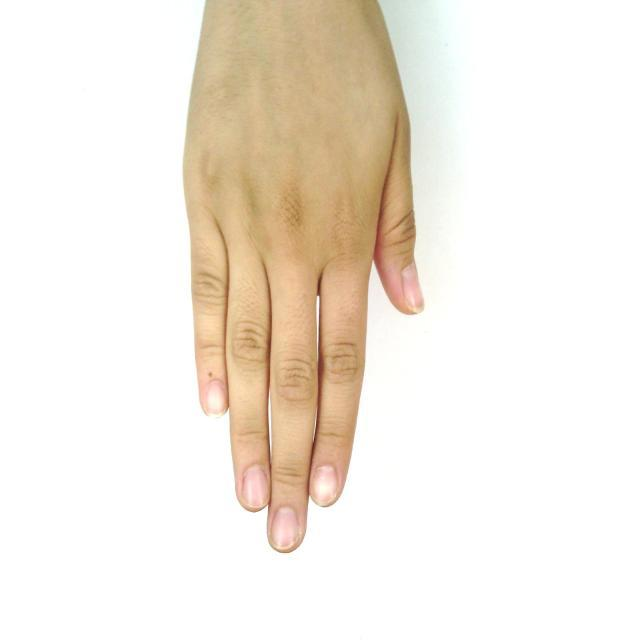Fingernail: (271, 507, 298, 550), (243, 466, 267, 509), (403, 265, 424, 311), (312, 466, 337, 504), (205, 381, 226, 416)
